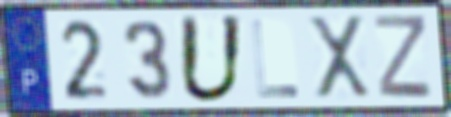2: (58, 18, 111, 103)
3: (122, 18, 175, 101)
L: (249, 17, 302, 100)
U: (177, 13, 246, 106)
X: (305, 13, 374, 103)
Z: (372, 12, 434, 102)
